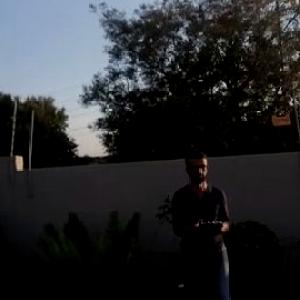follow: (168, 143, 239, 299)
